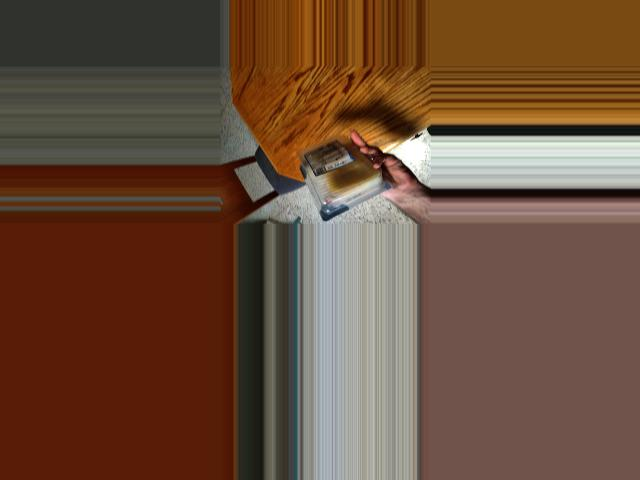cheese: (297, 149, 392, 214)
